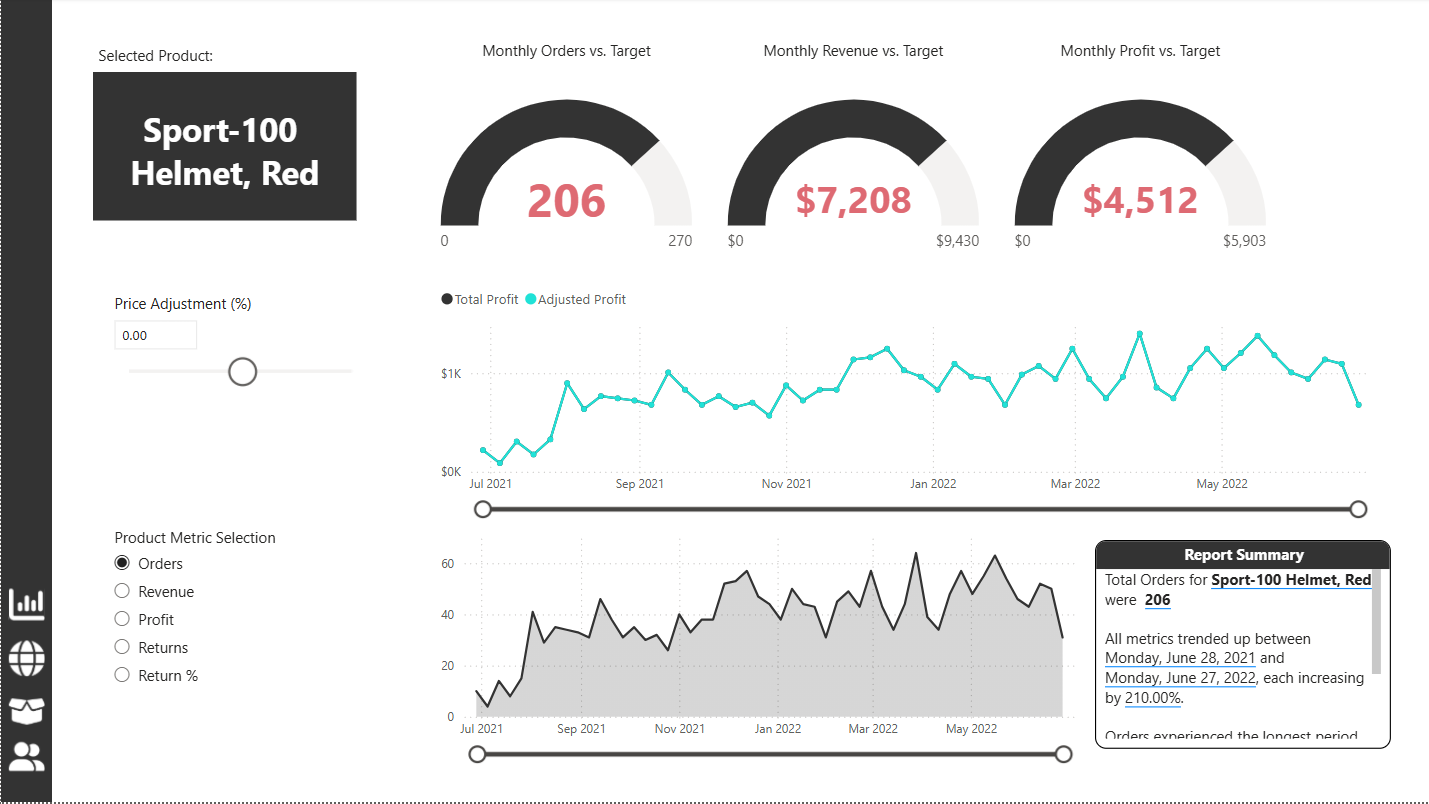

The page's visual inventory and layout, read from the dashboard file:
{"tool":"powerbi","page":{"name":"Product Detail","canvas":[1280,720],"ordinal":2},"visuals":[{"type":"shape","box":[0,0,45.7,720],"z":0},{"type":"actionButton","box":[0,523,45.7,40.3],"z":0,"group":"g1"},{"type":"gauge","title":"Monthly Orders vs. Target","fields":{"MaxValue":["Measure Table.Order Target"],"Y":["Measure Table.Total Orders"]},"box":[389.1,37.6,235.4,229.5],"z":1000},{"type":"actionButton","box":[0,571.1,45.7,40.3],"z":1000,"group":"g1"},{"type":"gauge","title":"Monthly Revenue vs. Target","fields":{"MaxValue":["Measure Table.Revenue Target"],"Y":["Measure Table.Total Revenue"]},"box":[645.9,37.6,235.4,229.5],"z":2000},{"type":"actionButton","box":[0,619.1,45.7,40.3],"z":2000,"group":"g1"},{"type":"gauge","title":"Monthly Profit vs. Target","fields":{"MaxValue":["Measure Table.Profit Target"],"Y":["Measure Table.Total Profit"]},"box":[902.7,37.6,235.4,229.5],"z":3000},{"type":"actionButton","box":[0,659.1,45.7,40.3],"z":3000,"group":"g1"},{"type":"lineChart","title":"Profit Trending","fields":{"Category":["Calendar Lookup.Date Hierarchy.Start of Year","Calendar Lookup.Date Hierarchy.Start of Month","Calendar Lookup.Date Hierarchy.Start of Week","Calendar Lookup.Date Hierarchy.Date"],"Y":["Measure Table.Total Profit","Measure Table.Adjusted Profit"]},"box":[388.7,249.9,856.1,219.4],"z":4000},{"type":"areaChart","title":"Returns Trending","fields":{"Category":["Calendar Lookup.Date Hierarchy.Start of Year","Calendar Lookup.Date Hierarchy.Start of Month","Calendar Lookup.Date Hierarchy.Start of Week","Calendar Lookup.Date Hierarchy.Date"],"Y":["Measure Table.Total Orders"]},"box":[388.7,469.3,591,219.4],"z":5000},{"type":"card","fields":{"Values":["Min(Product Lookup.ProductName)"]},"box":[82.6,66.5,235.8,133],"z":6000},{"type":"textbox","box":[82.6,37.3,152.2,29.2],"z":7000},{"type":"group","id":"g1","title":"Navigation Buttons","box":[0,523,45.7,176.4],"z":8000},{"type":"slicer","fields":{"Values":["Price Adjustment (%).Price Adjustment (%)"]},"box":[88.7,259.7,248.1,161.2],"z":9000},{"type":"slicer","fields":{"Values":["Product Metric Selection.Product Metric Selection"]},"box":[88.7,469.3,248.1,163.9],"z":10000},{"type":"textbox","title":"Report Summary","box":[979.7,485.4,265.1,187.2],"z":11000}]}

Visuals, with their boxes on the page's 1280x720 design canvas (x1, y1, x2, y2). These are canvas units, not pixel positions in the 1429x804 screenshot, which may show the page scaled, cropped or inside an application window:
shape: 0:0:46:720
actionButton: 0:523:46:563
"Monthly Orders vs. Target" gauge: 389:38:624:267
actionButton: 0:571:46:611
"Monthly Revenue vs. Target" gauge: 646:38:881:267
actionButton: 0:619:46:659
"Monthly Profit vs. Target" gauge: 903:38:1138:267
actionButton: 0:659:46:699
"Profit Trending" lineChart: 389:250:1245:469
"Returns Trending" areaChart: 389:469:980:689
card - Min(Product Lookup.ProductName): 83:66:318:200
textbox: 83:37:235:66
"Navigation Buttons" group: 0:523:46:699
slicer - Price Adjustment (%).Price Adjustment (%): 89:260:337:421
slicer - Product Metric Selection.Product Metric Selection: 89:469:337:633
"Report Summary" textbox: 980:485:1245:673
